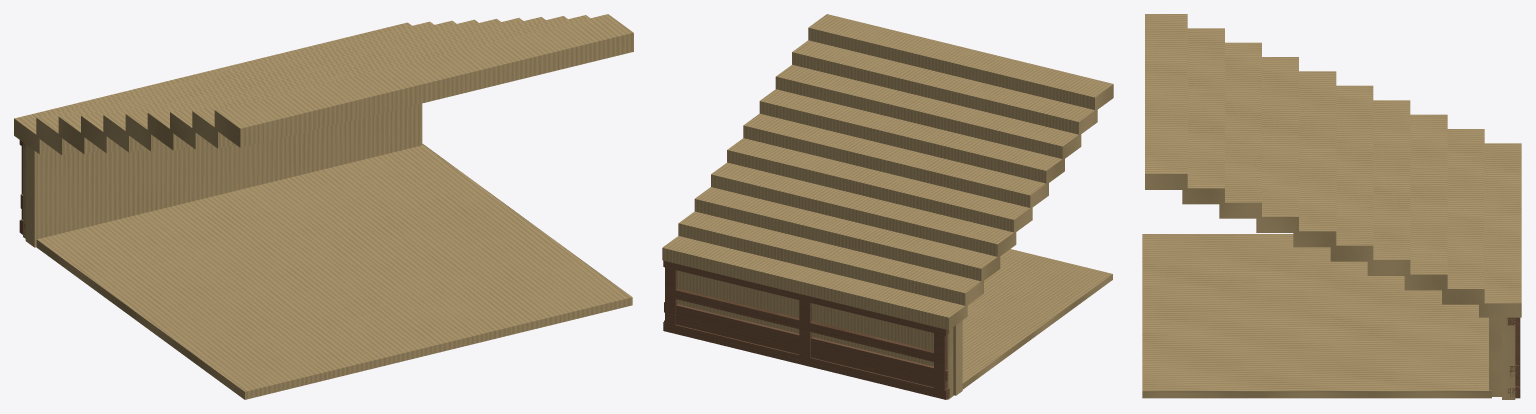
Rendered from med_lean_to.glb.
3 views of the same model, side by side, from view 1: azimuth 30°, elevation 25°; view 2: azimuth 150°, elevation 25°; view 3: azimuth 270°, elevation 25° (orthographic). The views are drawn at different scales.
Parts seen in each view (by area): view 1: med_lean_to; view 2: med_lean_to; view 3: med_lean_to.
Boxes of the visible parts, left/top/right/bottom form: med_lean_to: left=14, top=14, right=633, bottom=399; med_lean_to: left=662, top=14, right=1113, bottom=399; med_lean_to: left=1142, top=14, right=1521, bottom=399.
Size of the model in its own units: 4.06 by 2.68 by 4.07.
1 material, 1 textured.
